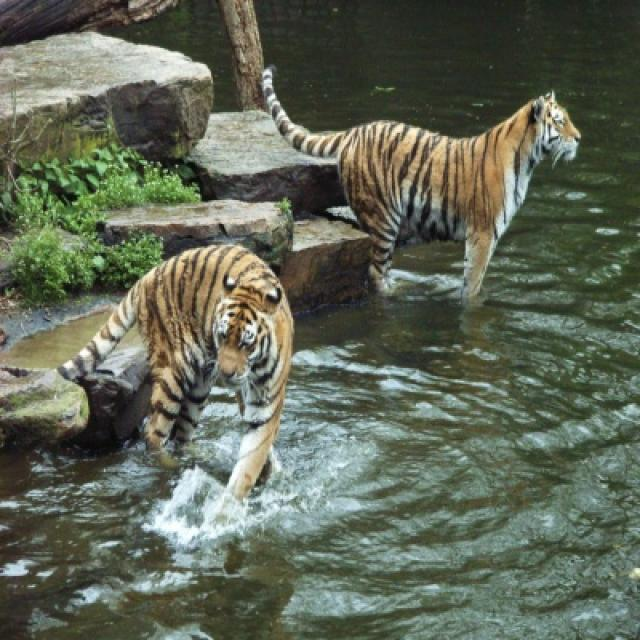Tiger: (261, 70, 579, 296), (59, 245, 293, 496)
